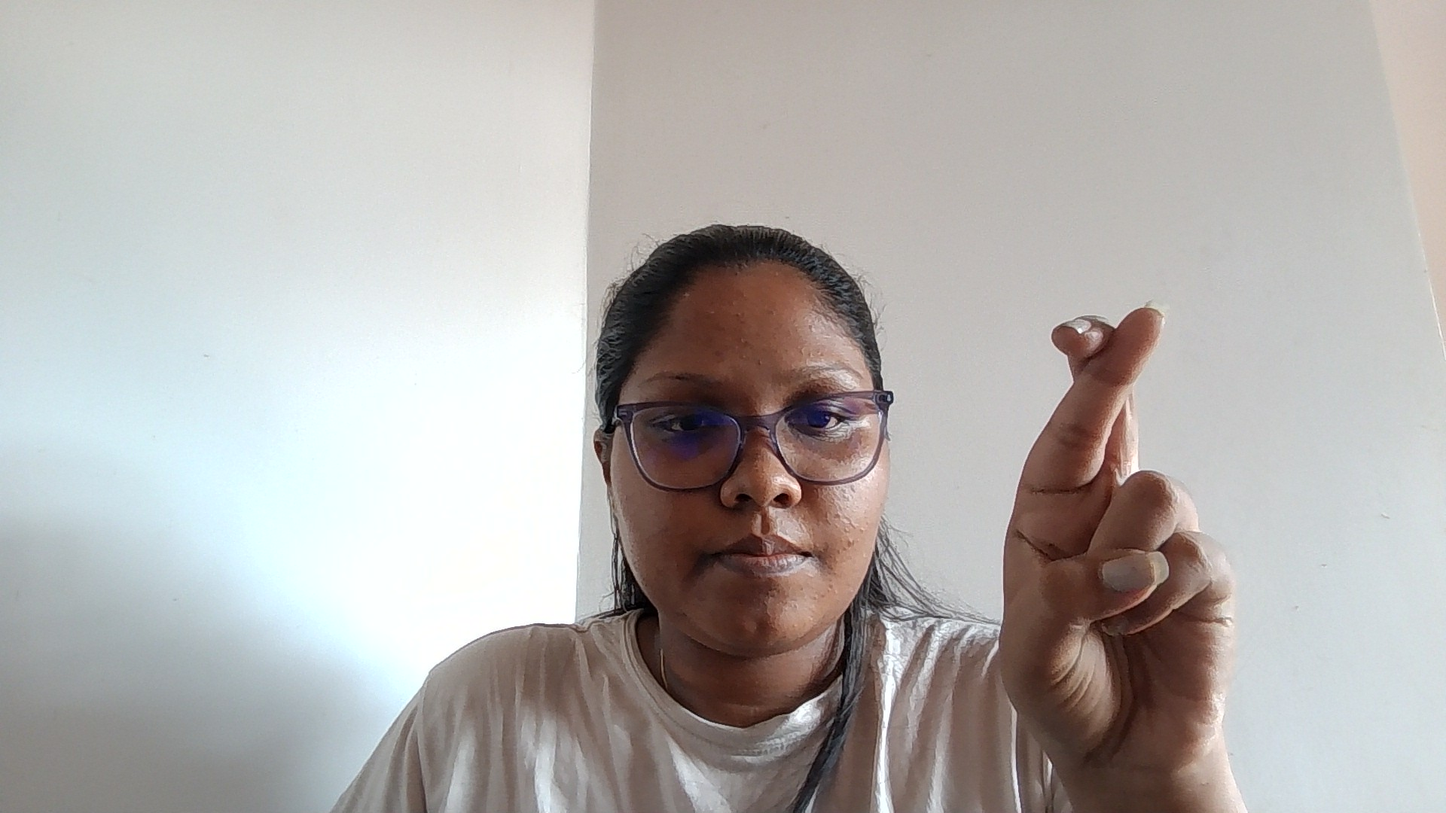Good_Luck: (928, 228, 1396, 799)
